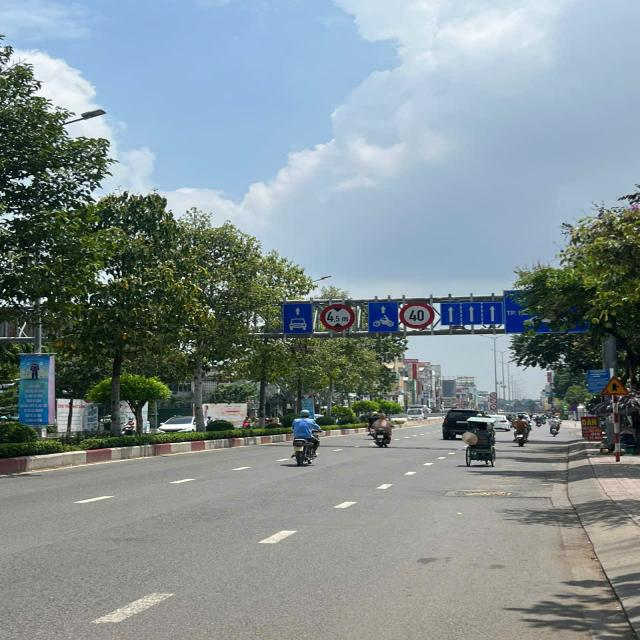car: (441, 404, 484, 441), (157, 413, 204, 437), (491, 408, 512, 434)
motobyte: (289, 407, 323, 469), (366, 412, 396, 448), (512, 413, 534, 450), (122, 415, 138, 436), (549, 415, 563, 436)
